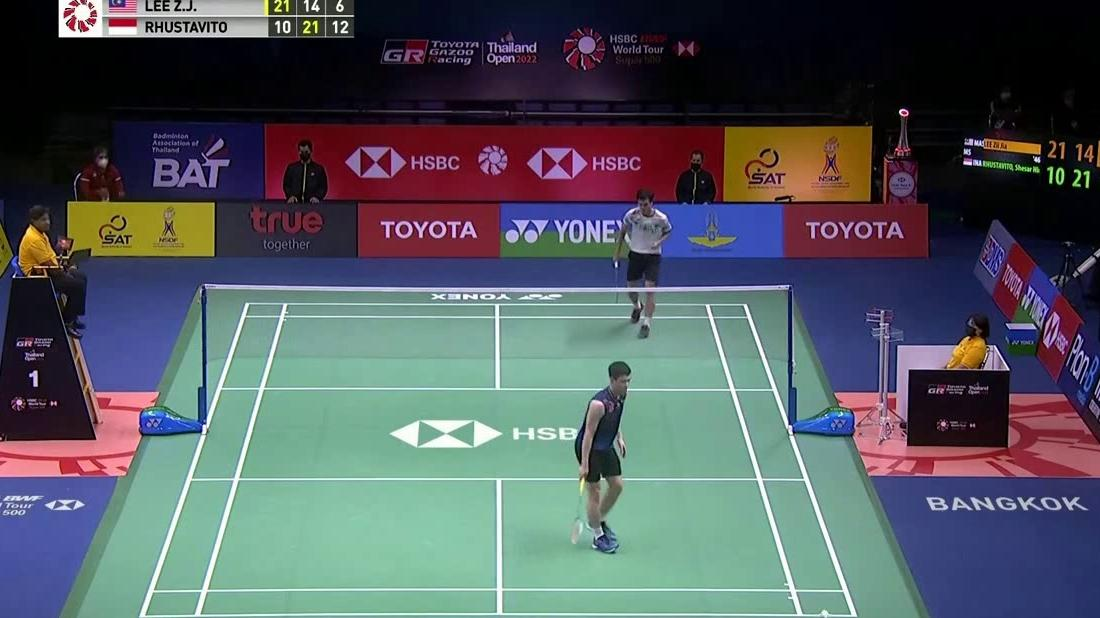racket: (568, 476, 589, 547), (610, 257, 625, 307)
shuttle: (820, 607, 830, 618)
